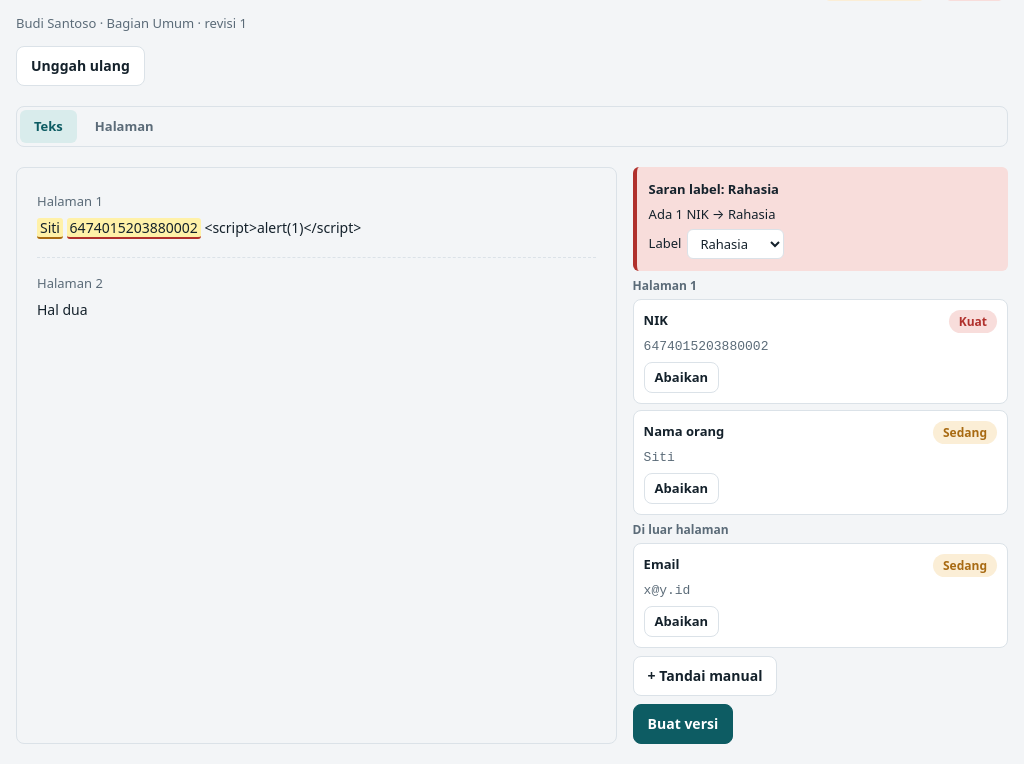
Test: 403 detail shown in toast
(page scrolled)
What coordinates should you click on to do the following:
click the button "Buat versi"
I would click on:
 (683, 724)
Its box is [633,704,733,744].
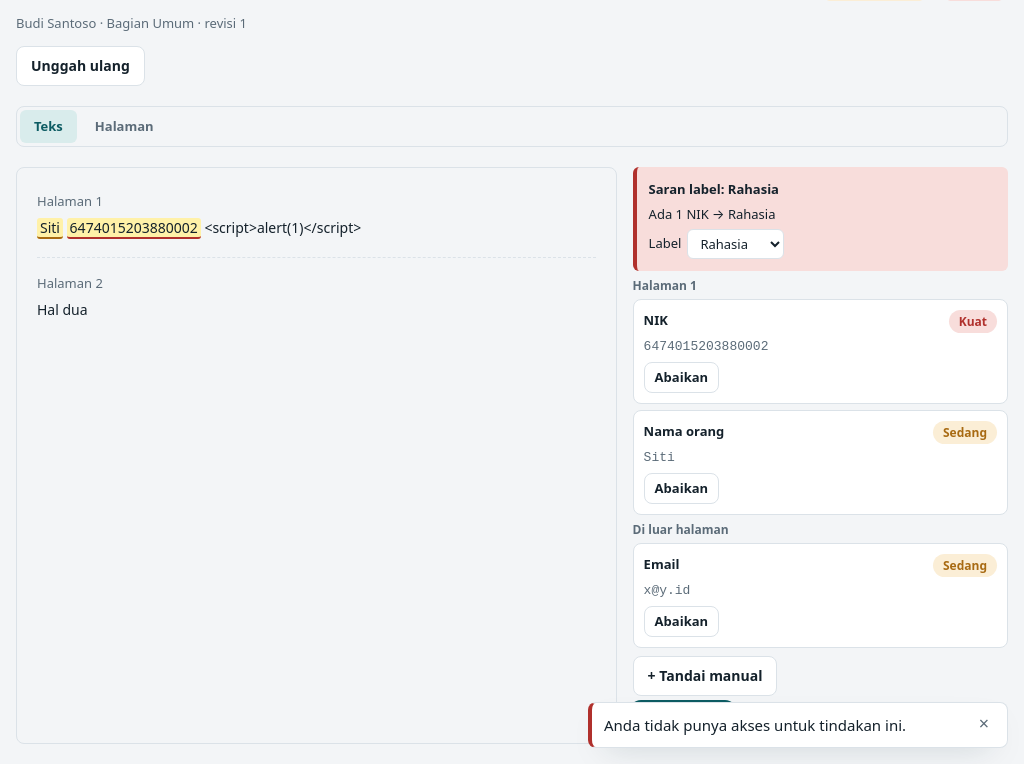
Result: the message shows "Anda tidak punya akses untuk tindakan ini." at [604,715,906,735]
